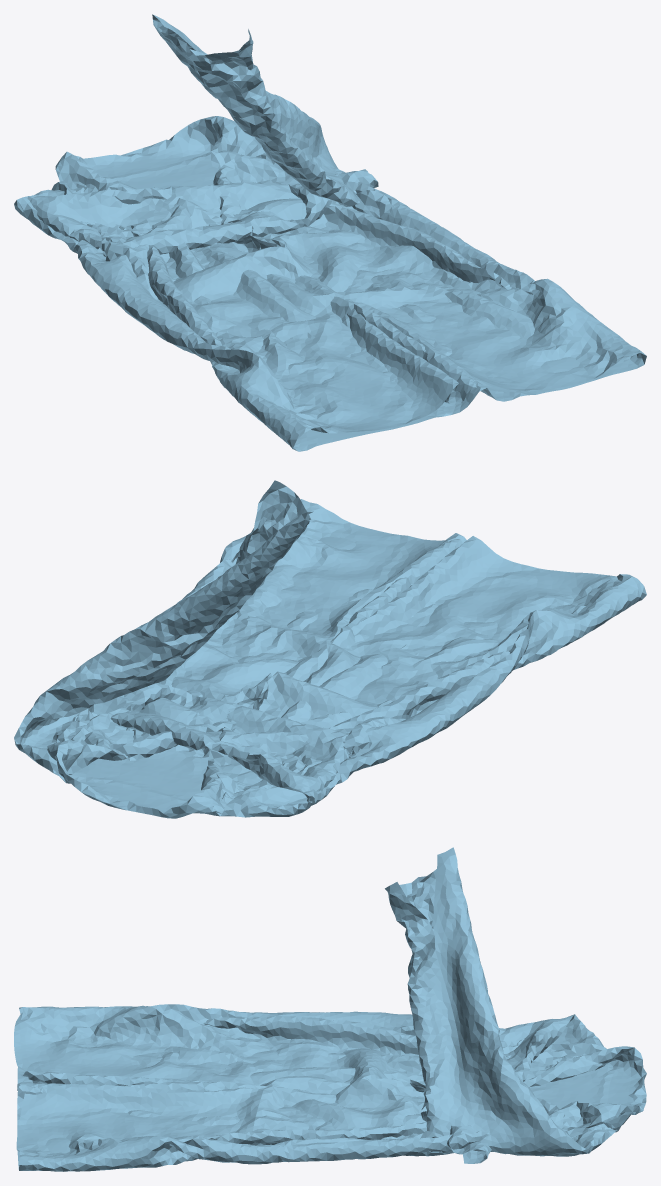
File: frame_16.glb
The picture shows the model from 3 angles, top to bottom: view 1: azimuth 30°, elevation 25°; view 2: azimuth 150°, elevation 25°; view 3: azimuth 270°, elevation 25°; orthographic projection. The views are drawn at different scales.
Visible parts, largest first — view 1: frame_16.obj; view 2: frame_16.obj; view 3: frame_16.obj.
Part boxes in pixels (<box>): frame_16.obj: <box>14,14,646,451</box>; frame_16.obj: <box>14,480,646,818</box>; frame_16.obj: <box>14,847,646,1171</box>.
Bounding box in the file's own units: 0.9608 × 0.6269 × 1.65.
